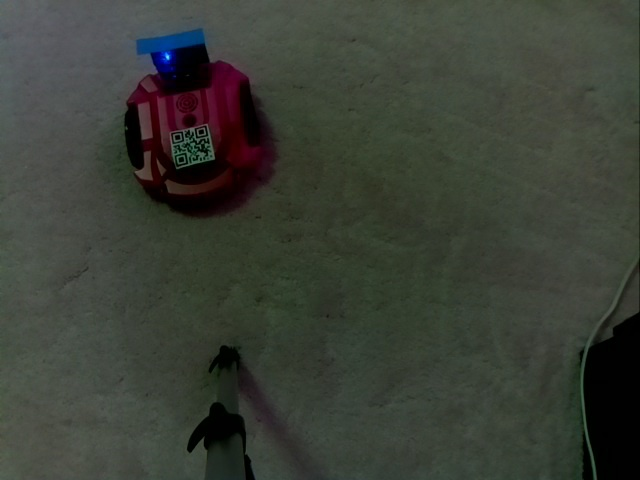board: (132, 25, 212, 84)
chassis: (117, 29, 268, 200)
